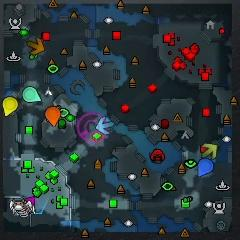p1: (198, 158, 214, 178)
p2: (23, 86, 41, 103)
p3: (24, 196, 36, 205)
p4: (3, 97, 18, 117)
p5: (44, 107, 60, 127)
x2: (200, 144, 217, 160)
x3: (96, 117, 114, 134)
x5: (28, 38, 44, 55)
